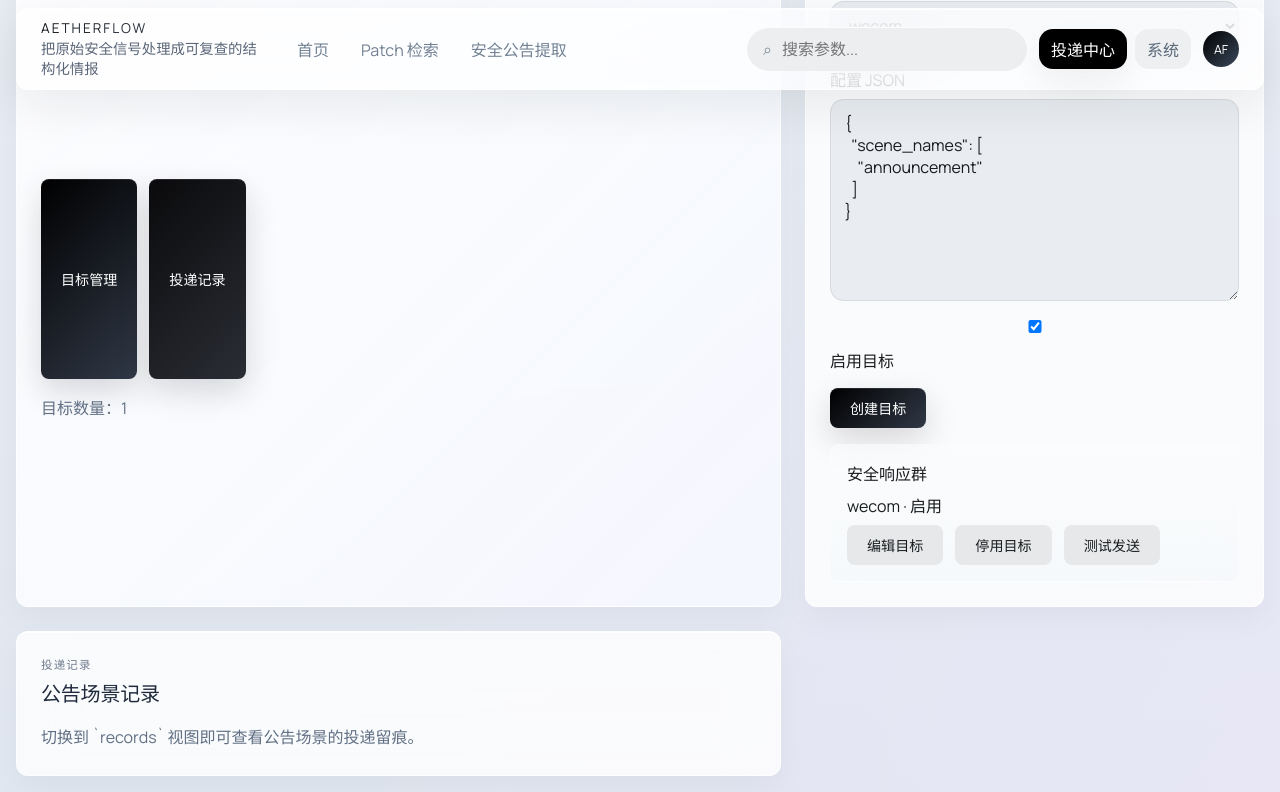
Scenario: delivery center target tab supports test send
This screenshot has width=1280, height=792.
(page scrolled)
Check: the text "安全响应群" is shown, box left=847, top=463, right=927, bottom=485
Click the button "测试发送". click: (1112, 545)
box: left=1064, top=525, right=1160, bottom=565
(page scrolled)
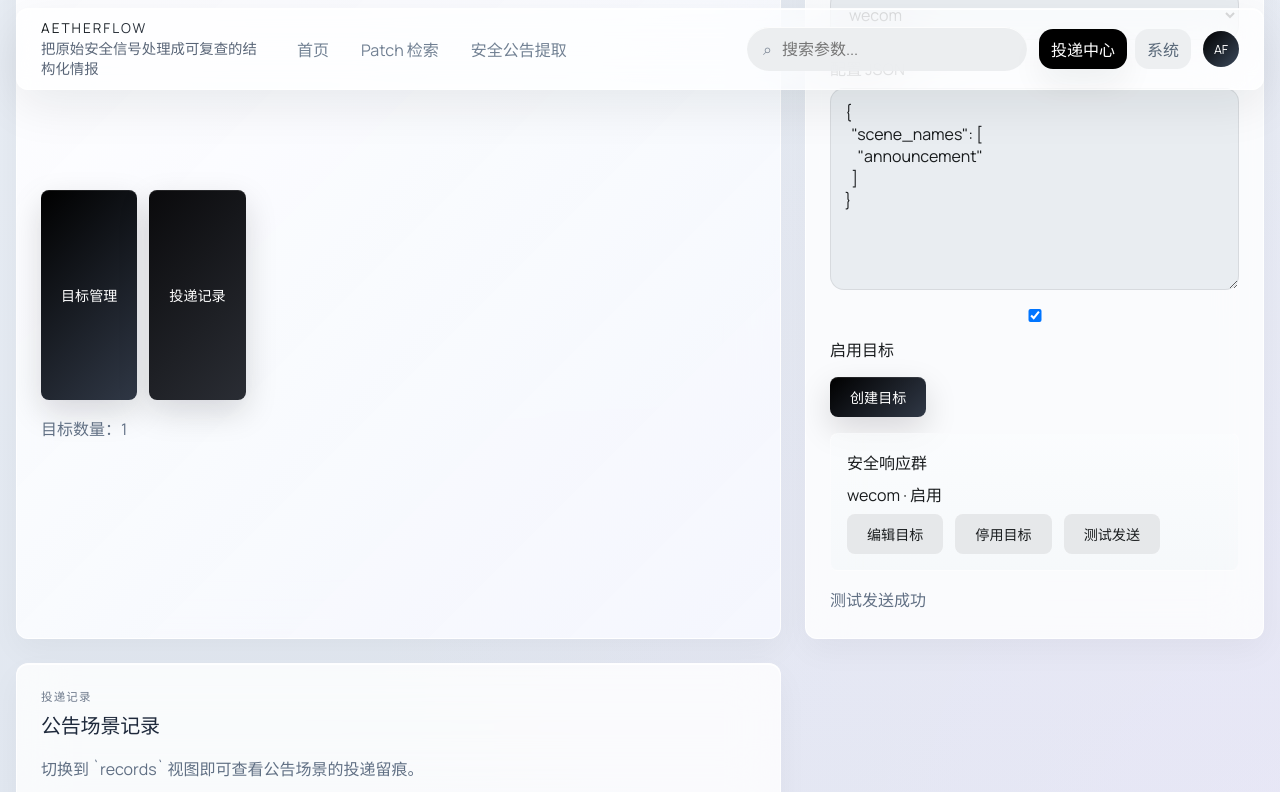
Check: the text "测试发送成功" is shown, box left=830, top=589, right=926, bottom=611
